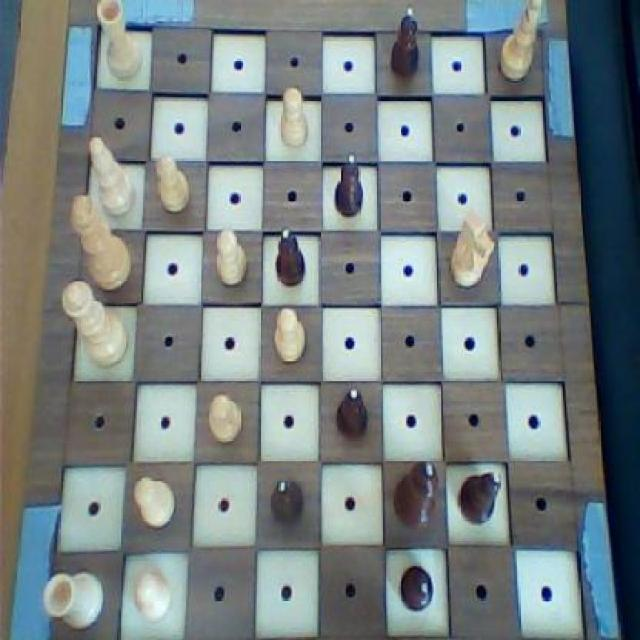bishop: (456, 468, 502, 526)
black-bishop: (391, 454, 443, 533)
black-knight: (388, 1, 423, 80), (330, 149, 364, 222), (266, 474, 307, 533), (331, 384, 371, 444), (396, 558, 436, 617), (274, 223, 309, 289)
black-rook: (85, 134, 136, 218), (494, 0, 542, 85)
white-bishop: (66, 192, 132, 297)
white-king: (446, 205, 495, 292)
white-knight: (129, 472, 177, 534), (272, 81, 312, 150), (128, 566, 173, 626), (151, 152, 193, 215), (203, 388, 245, 448), (270, 303, 308, 367), (214, 224, 251, 288)
white-pawn: (58, 278, 128, 371)
white-queen: (90, 0, 144, 85), (42, 568, 106, 632)
